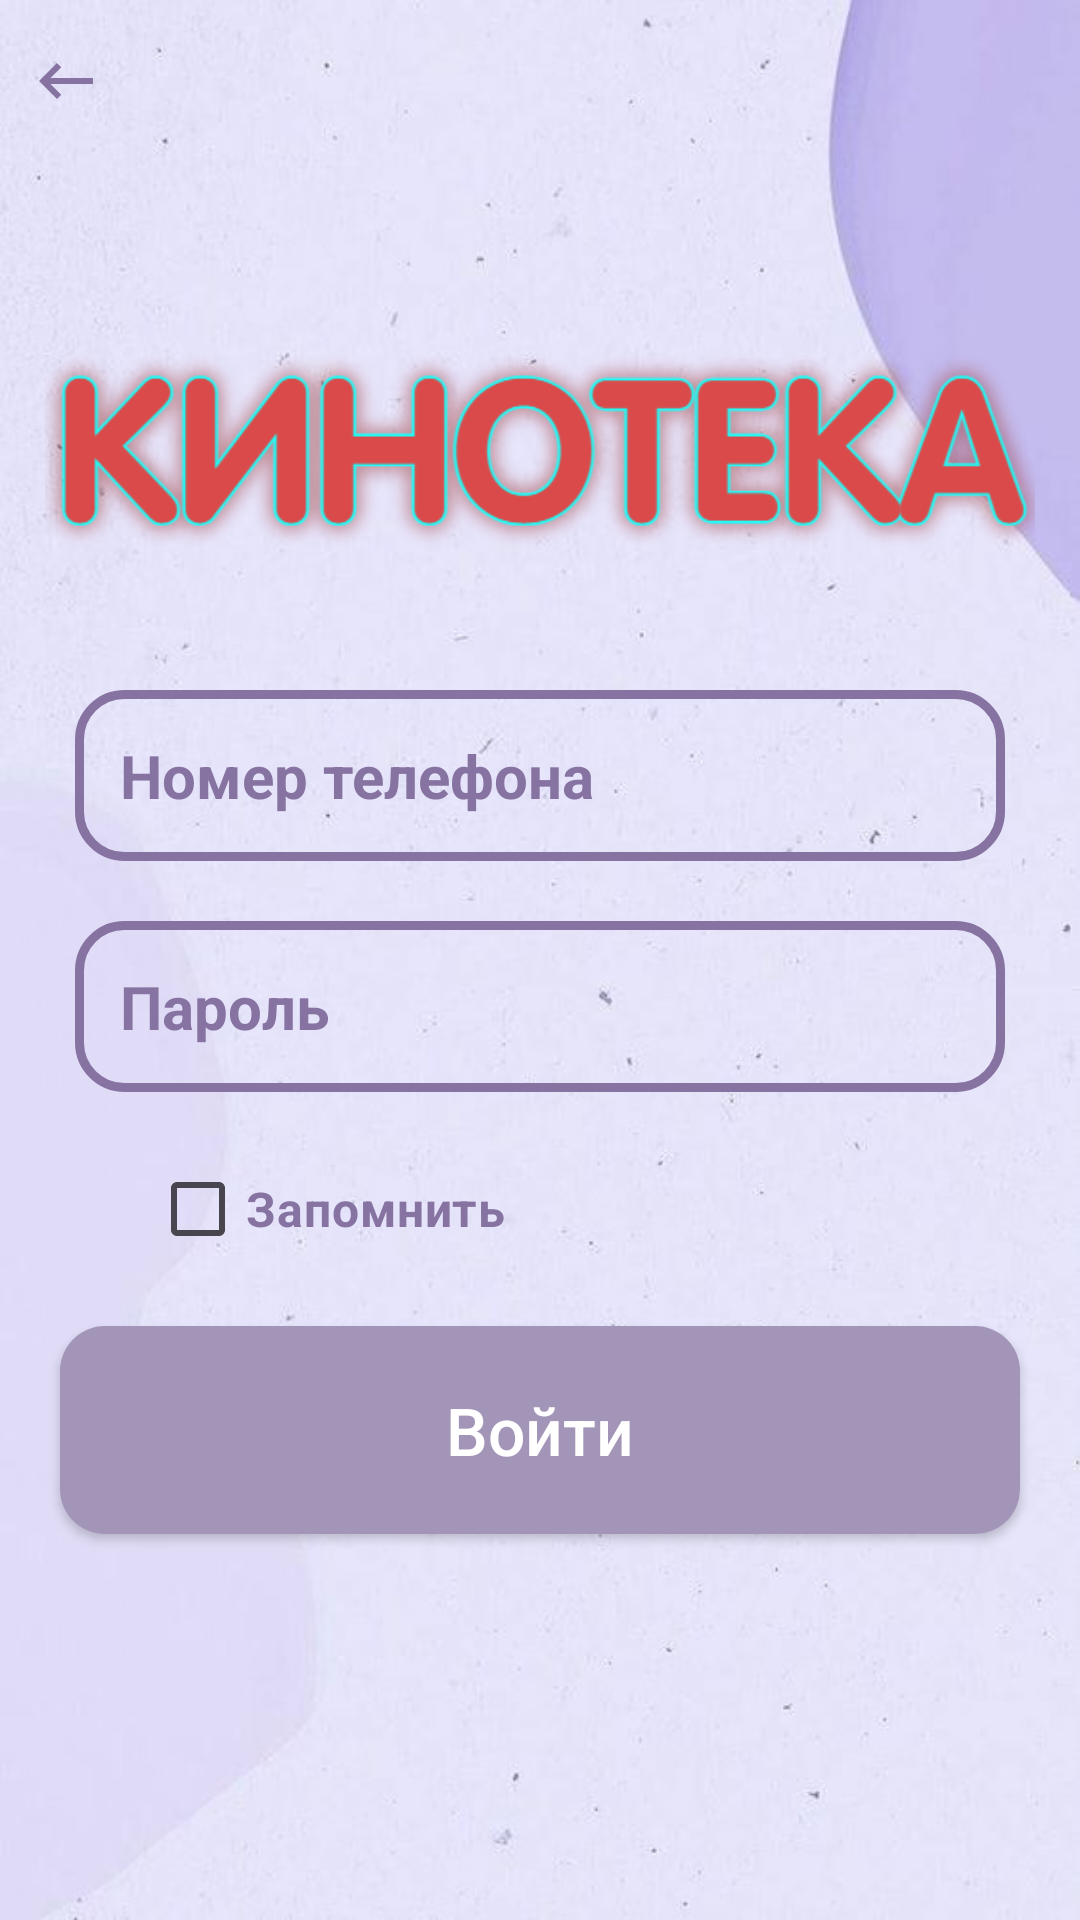

Named icons in this screenshot (1080w x 1920h) and their centers, (x,y):
keyboard backspace: (64,80)
